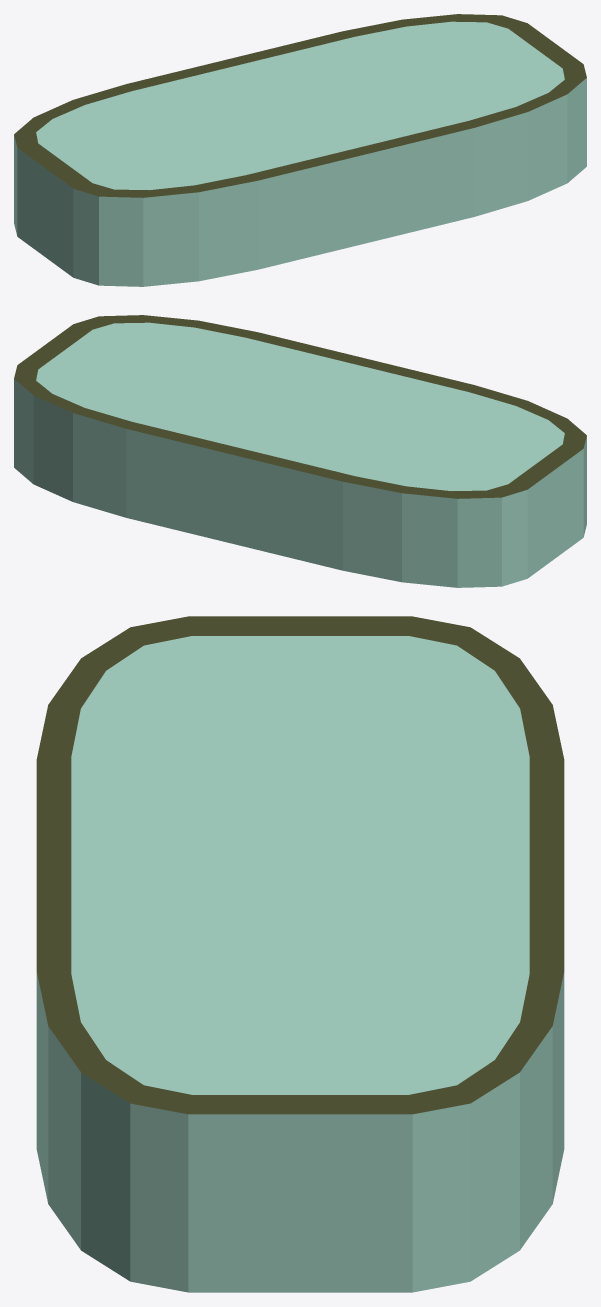
The model's file is ставка.fbx.
3 renders of one model, top to bottom at view 1: azimuth 30°, elevation 25°; view 2: azimuth 150°, elevation 25°; view 3: azimuth 270°, elevation 25°, orthographic. The views are drawn at different scales.
Parts seen in each view (by area): view 1: Cube.012; view 2: Cube.012; view 3: Cube.012.
Part boxes in pixels (x1,y1,x2,y2): Cube.012: (14,14,586,286); Cube.012: (14,315,586,587); Cube.012: (36,616,564,1292).
Size of the model in its own units: 300 by 50.06 by 134.
